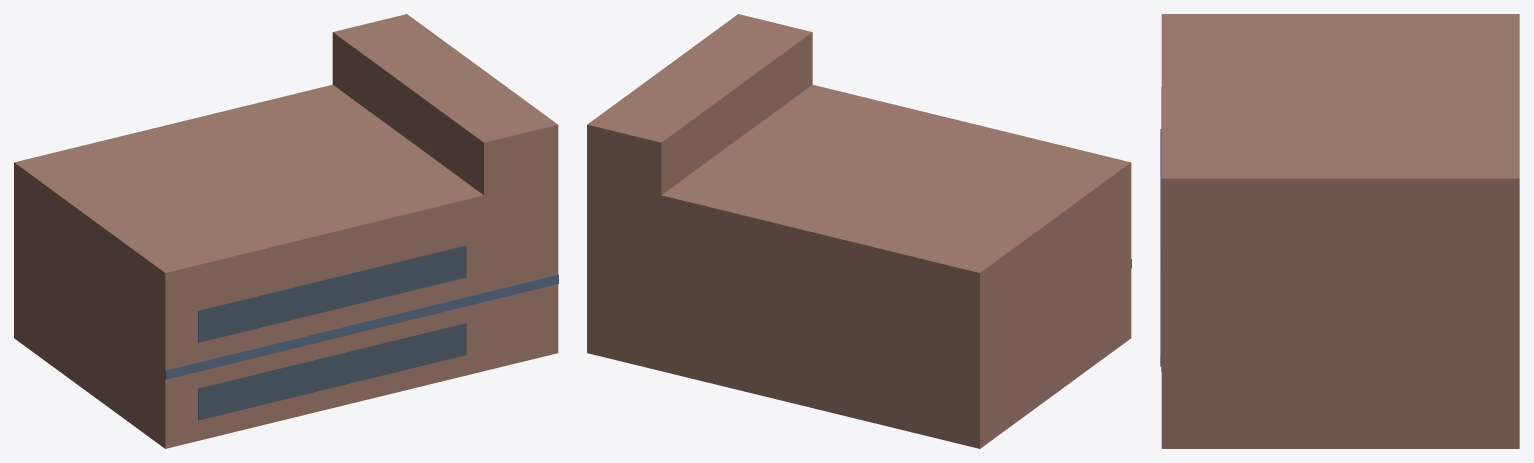
The model's file is police-station.walls-v1.lod2.glb.
The picture shows the model from 3 angles, left to right: view 1: azimuth 30°, elevation 25°; view 2: azimuth 150°, elevation 25°; view 3: azimuth 270°, elevation 25°; orthographic projection. The views are drawn at different scales.
Parts seen in each view (by area): view 1: police-station; view 2: police-station; view 3: police-station.
Boxes of the visible parts, x1,y1,x2,y2 form: police-station: (14,14,558,448); police-station: (587,14,1131,448); police-station: (1160,14,1519,448).
Size of the model in its own units: 18 by 10 by 12.05.
